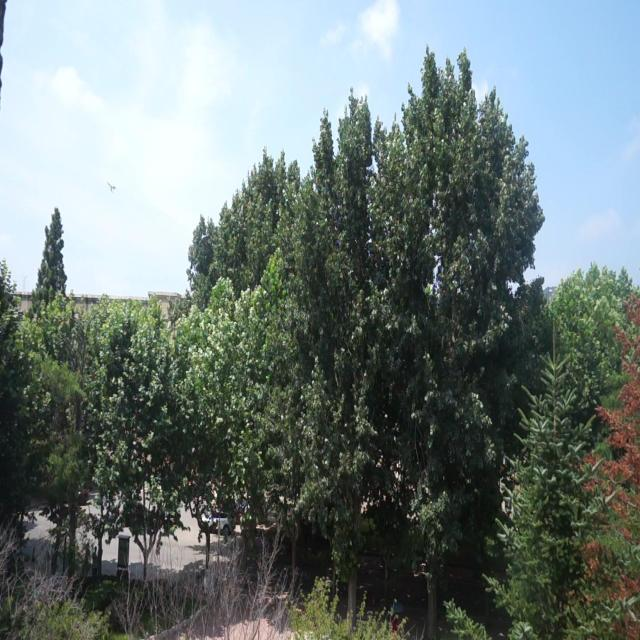drone: (104, 178, 119, 197)
